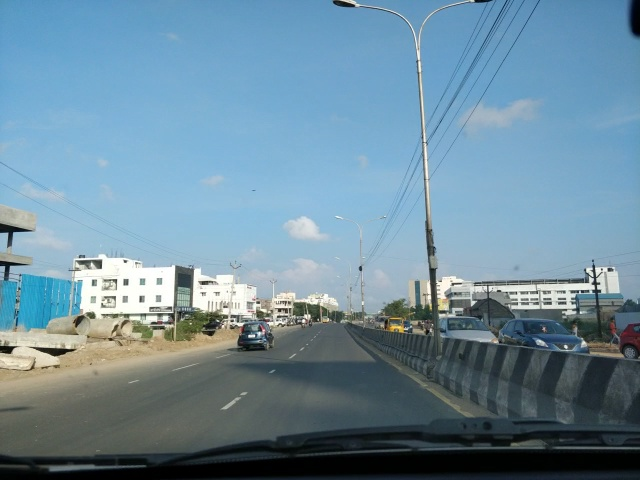auto: (385, 317, 405, 333)
car: (496, 317, 585, 349), (439, 317, 495, 343), (240, 321, 275, 348), (625, 325, 639, 361)
